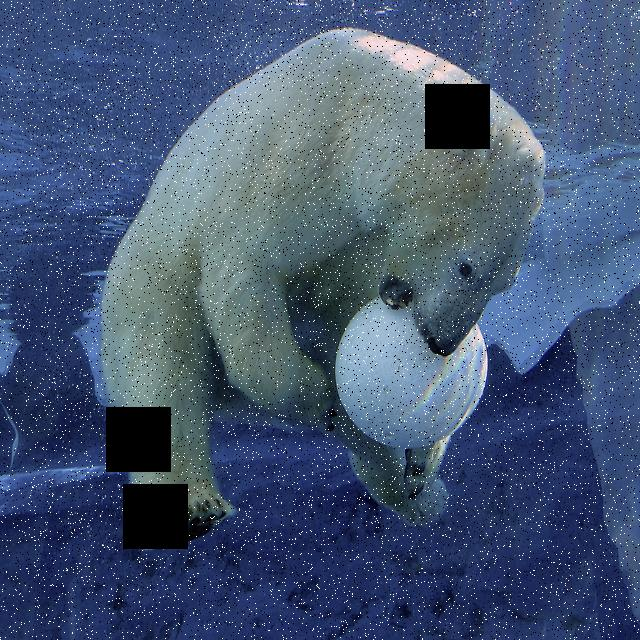Bear: (102, 32, 548, 543)
